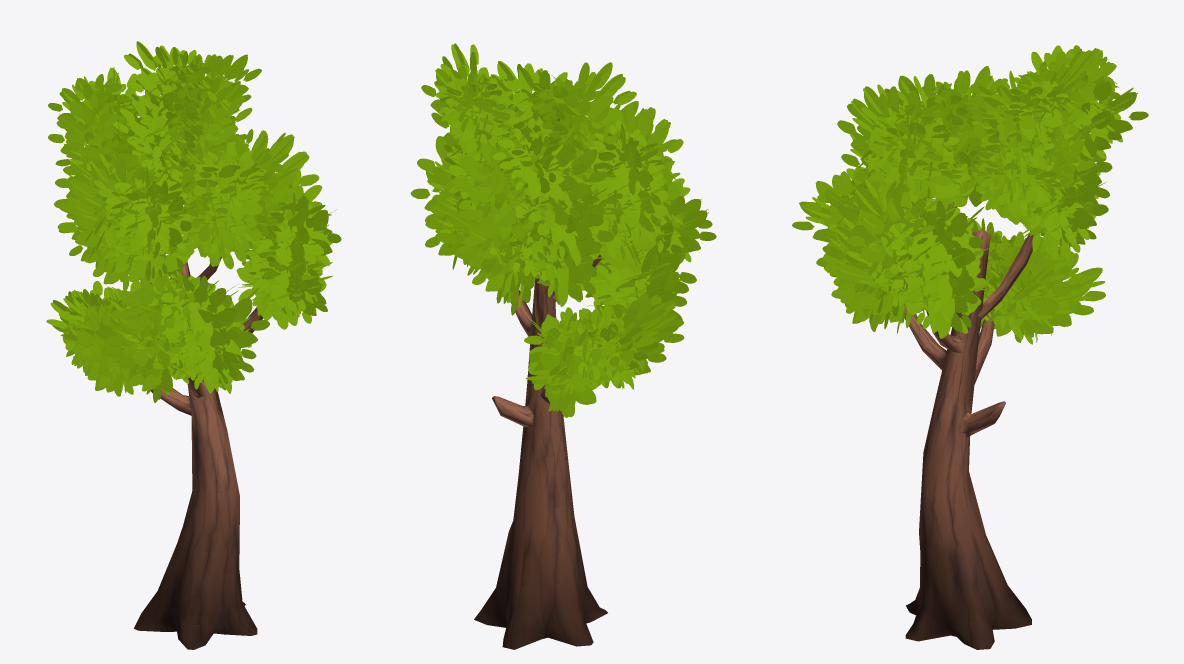
Rendered from CommonTree_5.glb.
3 views of the same model, side by side, from view 1: azimuth 30°, elevation 25°; view 2: azimuth 150°, elevation 25°; view 3: azimuth 270°, elevation 25° (orthographic). The views are drawn at different scales.
Size of the model in its own units: 3.67 by 7.01 by 4.22.
2 materials, 2 textured.
